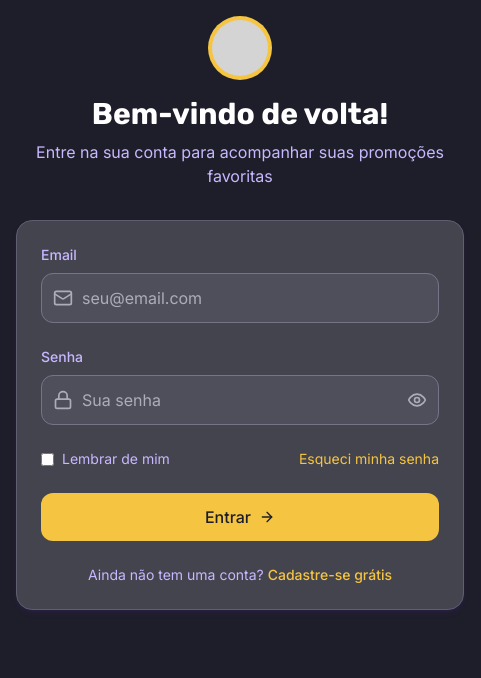
Test: Login Page › deve mostrar erro para senha muito curta
This screenshot has width=481, height=678.
Type "123" into the password field labelled "Senha". click: (240, 400)
box: [41,375,439,425]
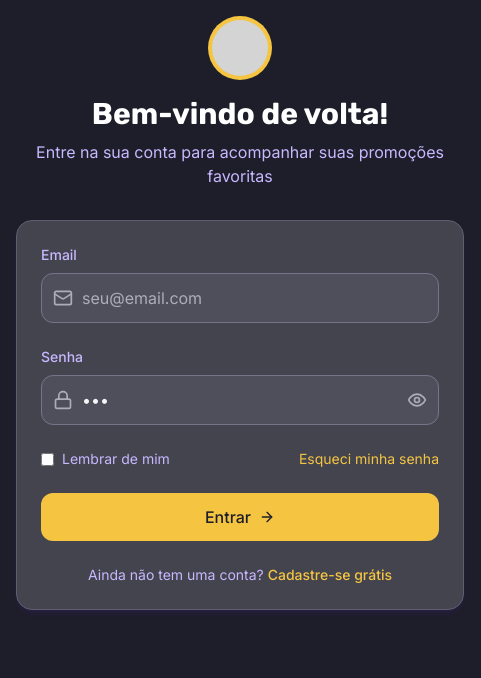
Click the button "Entrar". click: (240, 517)
box: [41,493,439,541]
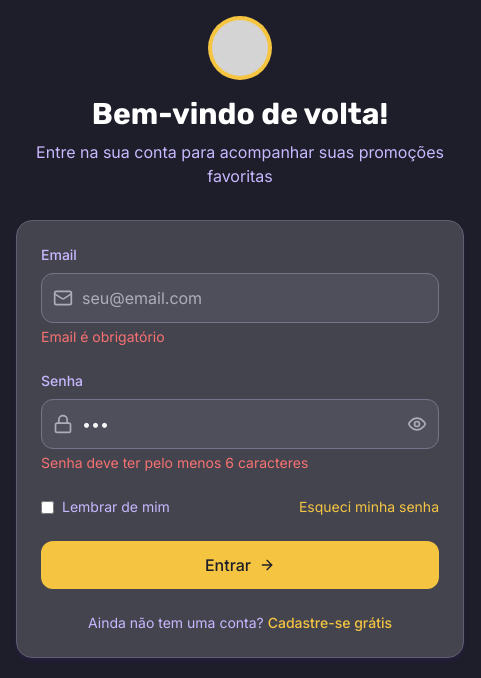
Check: the text "Senha deve ter pelo menos 6 caracteres" is shown, box [41,454,308,471]
